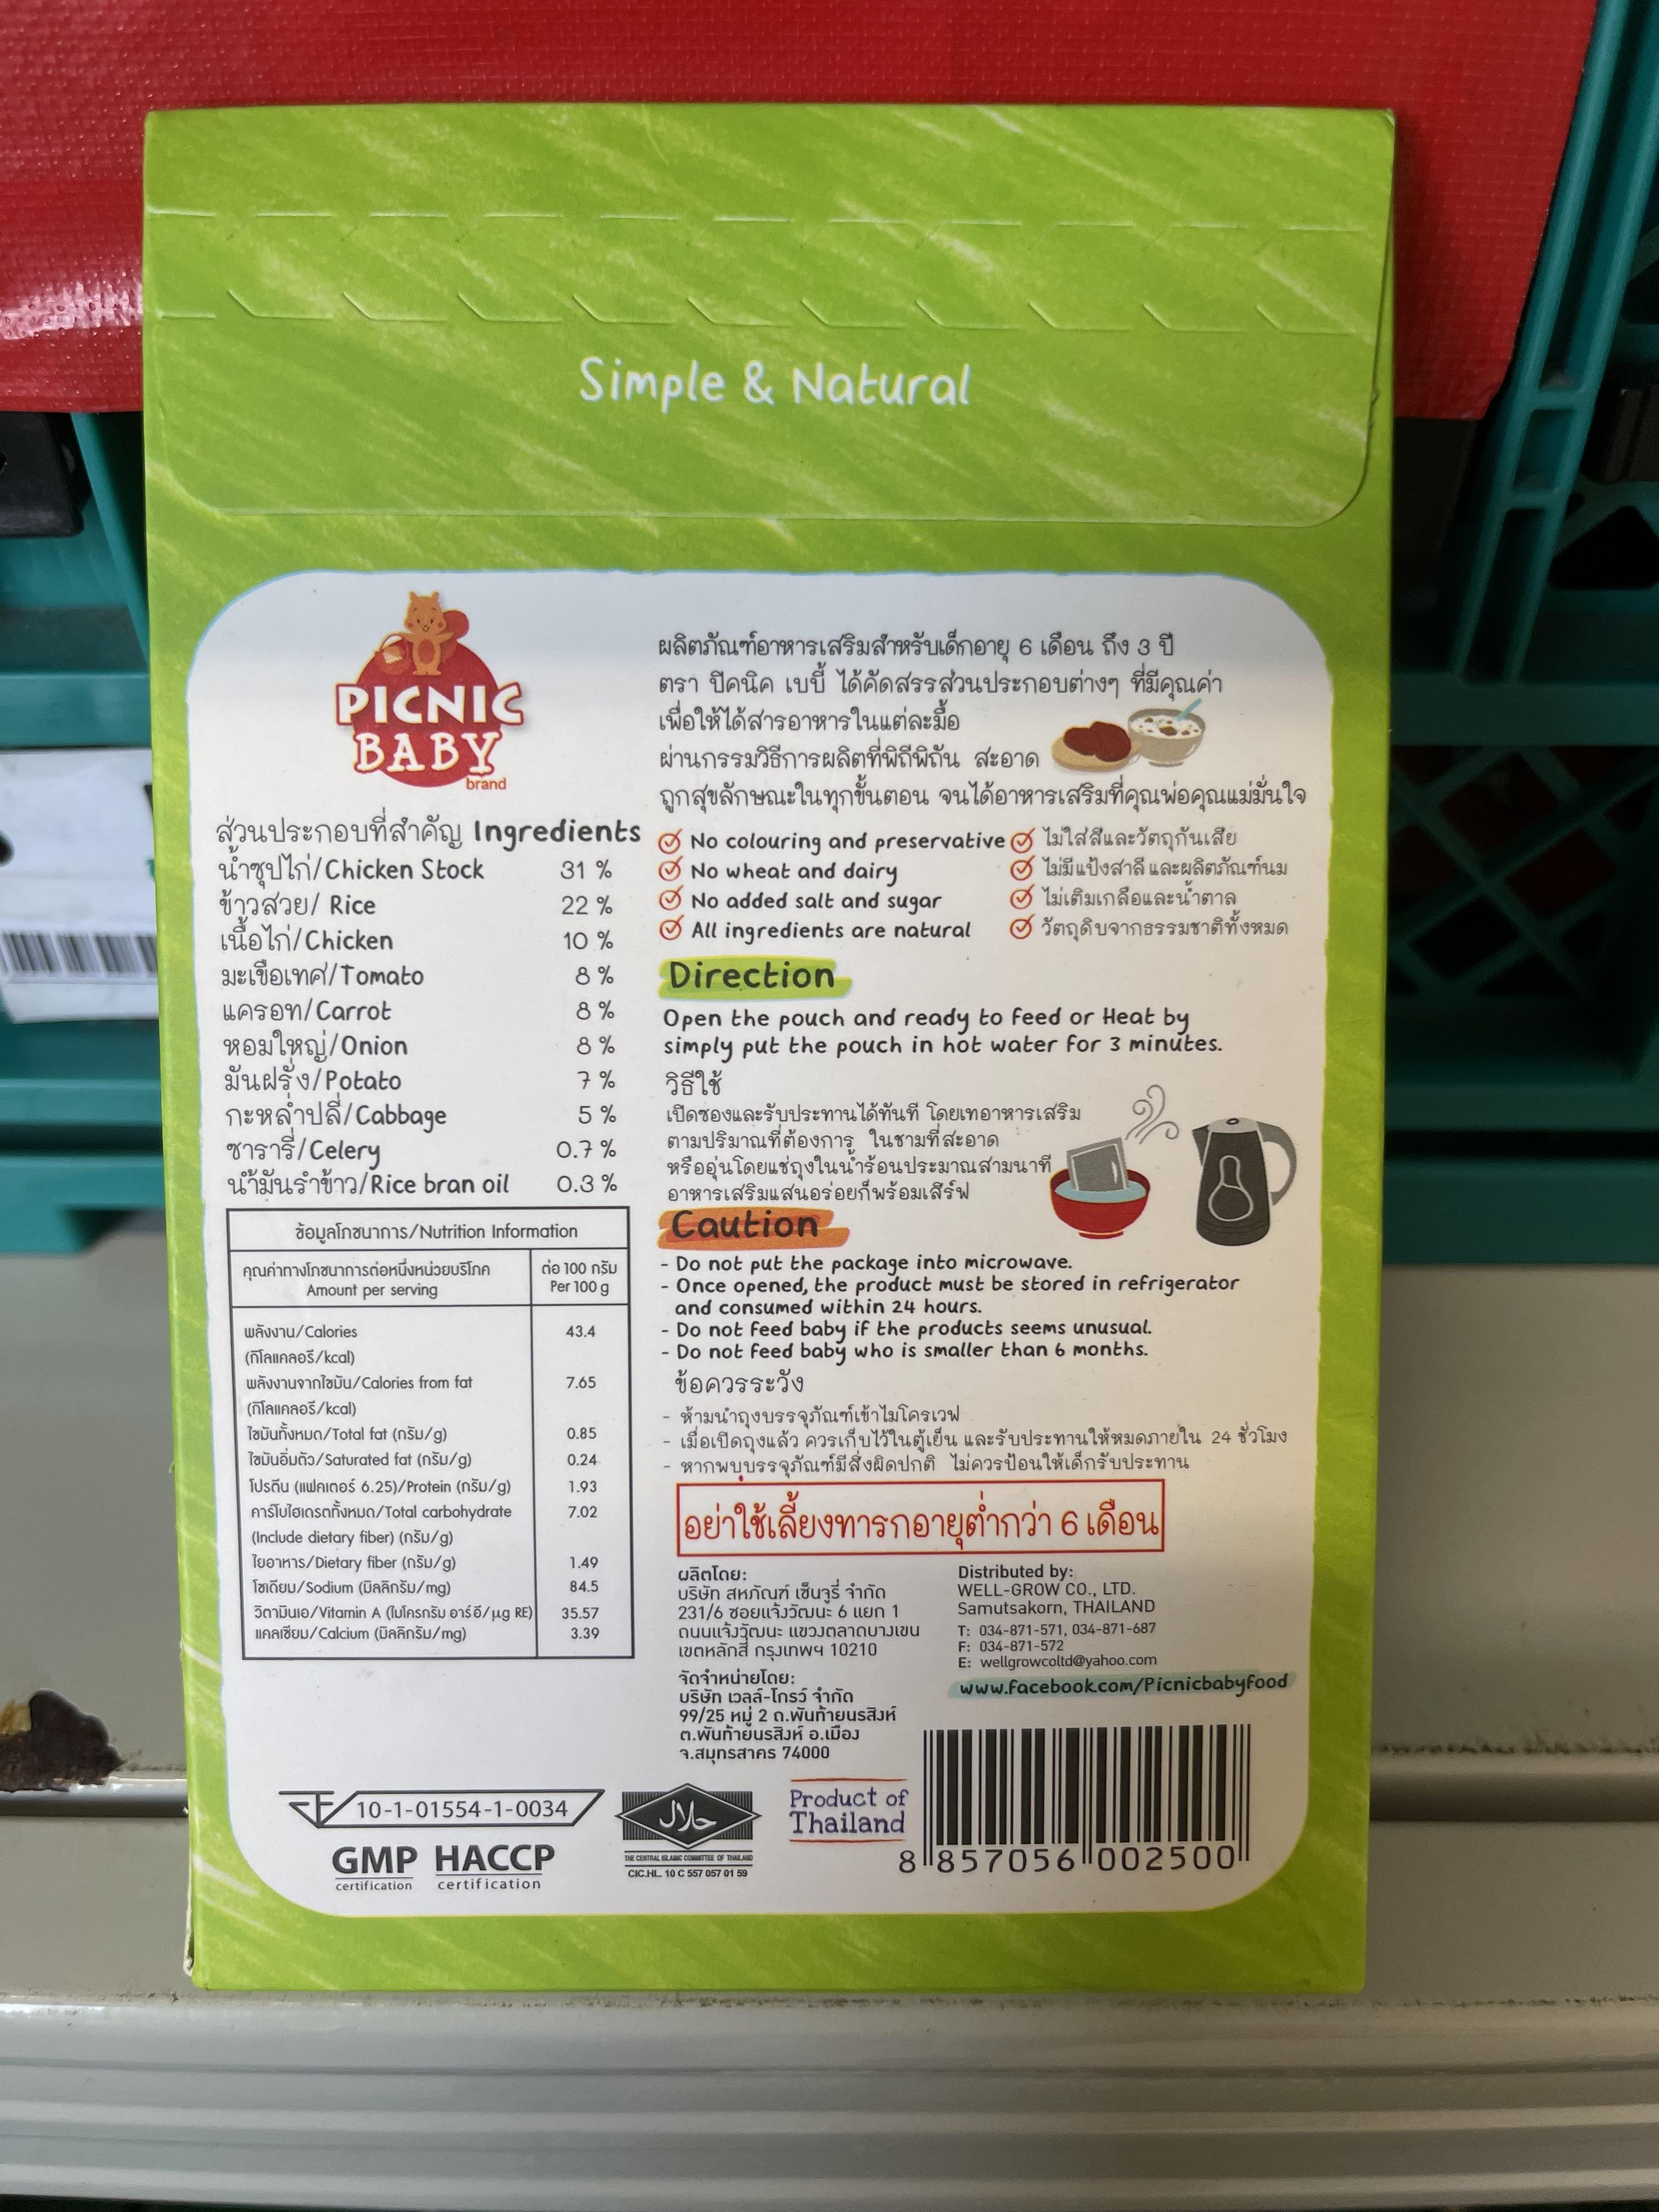object_name: (181, 162, 1352, 1987)
